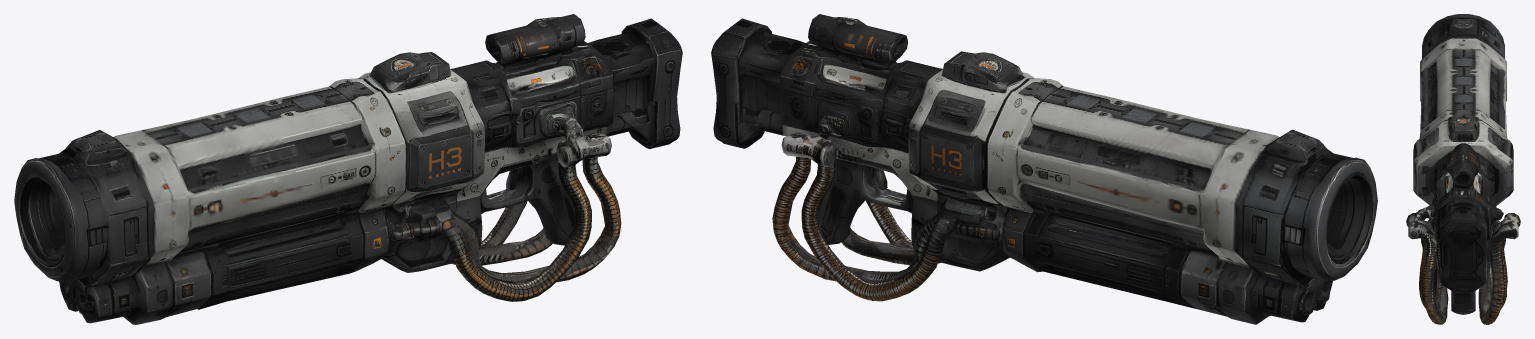
Rendered from H3-compression-cannon.glb.
3 views of the same model, side by side, from view 1: azimuth 30°, elevation 25°; view 2: azimuth 150°, elevation 25°; view 3: azimuth 270°, elevation 25° (orthographic). The views are drawn at different scales.
Visible parts, largest first — view 1: Mesh_0; view 2: Mesh_0; view 3: Mesh_0.
Boxes of the visible parts, box(x1,y1,x2,y2) form: Mesh_0: box(14, 14, 682, 324); Mesh_0: box(711, 14, 1377, 324); Mesh_0: box(1406, 14, 1520, 324).
Size of the model in its own units: 0.3906 by 0.15 by 0.0939.
Materials: 1 (1 with a texture image).
